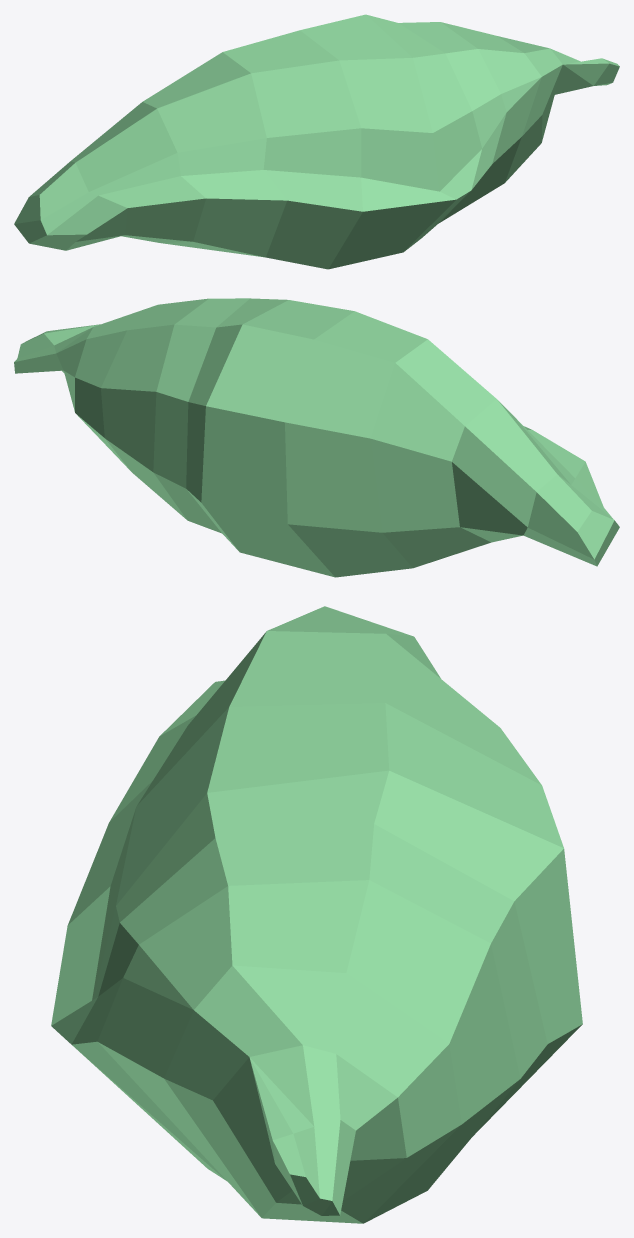
Rendered from Coral_06.fbx.
The picture shows the model from 3 angles, top to bottom: view 1: azimuth 30°, elevation 25°; view 2: azimuth 150°, elevation 25°; view 3: azimuth 270°, elevation 25°; orthographic projection. The views are drawn at different scales.
Visible parts, largest first — view 1: Coral_06; view 2: Coral_06; view 3: Coral_06.
Part boxes in pixels (box(x1,y1,x2,y2)): Coral_06: box(14, 14, 619, 269); Coral_06: box(14, 298, 619, 577); Coral_06: box(51, 606, 582, 1223).
Size of the model in its own units: 50.24 by 17.6 by 20.17.
